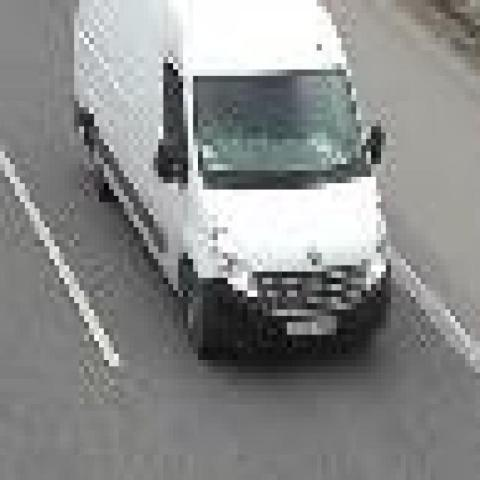van: (72, 0, 389, 354)
